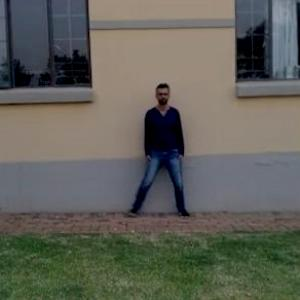follow: (143, 80, 184, 220)
